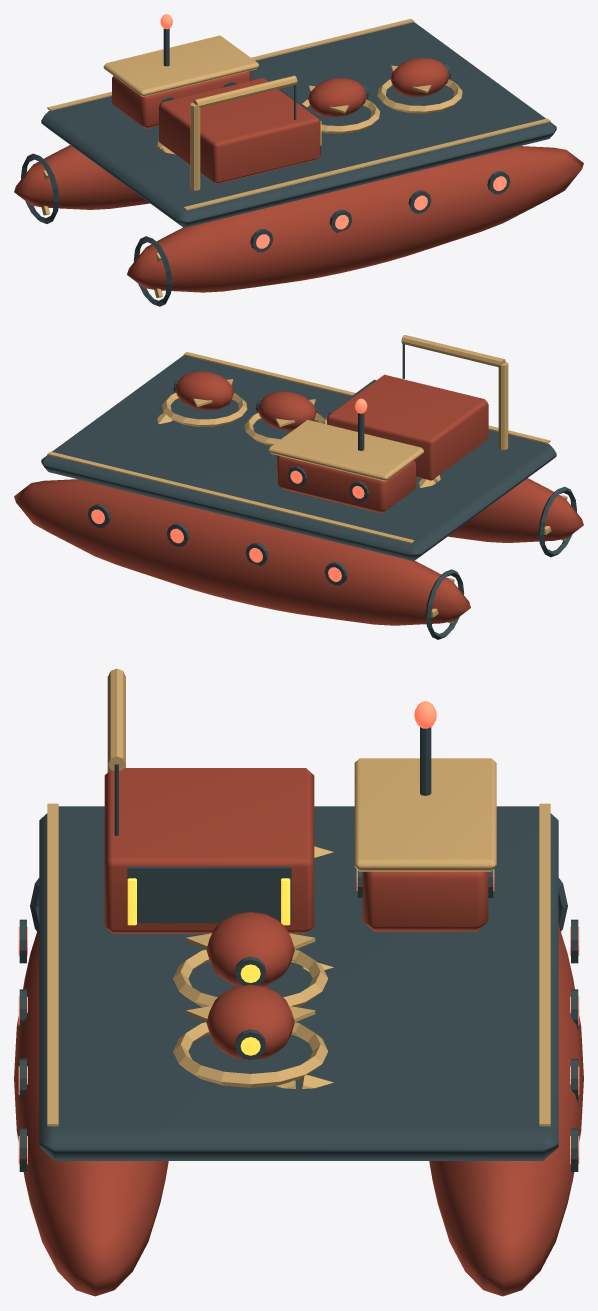
Rendered from enemy-carrier.glb.
The picture shows the model from 3 angles, top to bottom: view 1: azimuth 30°, elevation 25°; view 2: azimuth 150°, elevation 25°; view 3: azimuth 270°, elevation 25°; orthographic projection. The views are drawn at different scales.
Visible parts, largest first — view 1: enemy-carrier / Hull | burnt cinnabar, enemy-carrier / Hull | charcoal iron, enemy-carrier / Fittings | worn maritime brass, enemy-carrier / Lamp | hostile coral; view 2: enemy-carrier / Hull | burnt cinnabar, enemy-carrier / Hull | charcoal iron, enemy-carrier / Fittings | worn maritime brass, enemy-carrier / Lamp | hostile coral; view 3: enemy-carrier / Hull | charcoal iron, enemy-carrier / Hull | burnt cinnabar, enemy-carrier / Fittings | worn maritime brass, enemy-carrier / Lamp | furnace amber, enemy-carrier / Lamp | hostile coral.
Part boxes in pixels (x1,y1,x2,y2): enemy-carrier / Hull | burnt cinnabar: (14, 58, 583, 292); enemy-carrier / Hull | charcoal iron: (21, 22, 556, 306); enemy-carrier / Fittings | worn maritime brass: (41, 18, 550, 298); enemy-carrier / Lamp | hostile coral: (160, 14, 506, 248); enemy-carrier / Hull | burnt cinnabar: (14, 371, 583, 625); enemy-carrier / Hull | charcoal iron: (41, 344, 576, 639); enemy-carrier / Fittings | worn maritime brass: (47, 335, 567, 623); enemy-carrier / Lamp | hostile coral: (91, 398, 367, 581); enemy-carrier / Hull | charcoal iron: (19, 727, 578, 1171); enemy-carrier / Hull | burnt cinnabar: (14, 768, 583, 1296); enemy-carrier / Fittings | worn maritime brass: (47, 668, 550, 1126); enemy-carrier / Lamp | furnace amber: (127, 878, 290, 1055); enemy-carrier / Lamp | hostile coral: (18, 701, 579, 1164).
Size of the model in its own units: 9.26 by 4.01 by 5.54.
